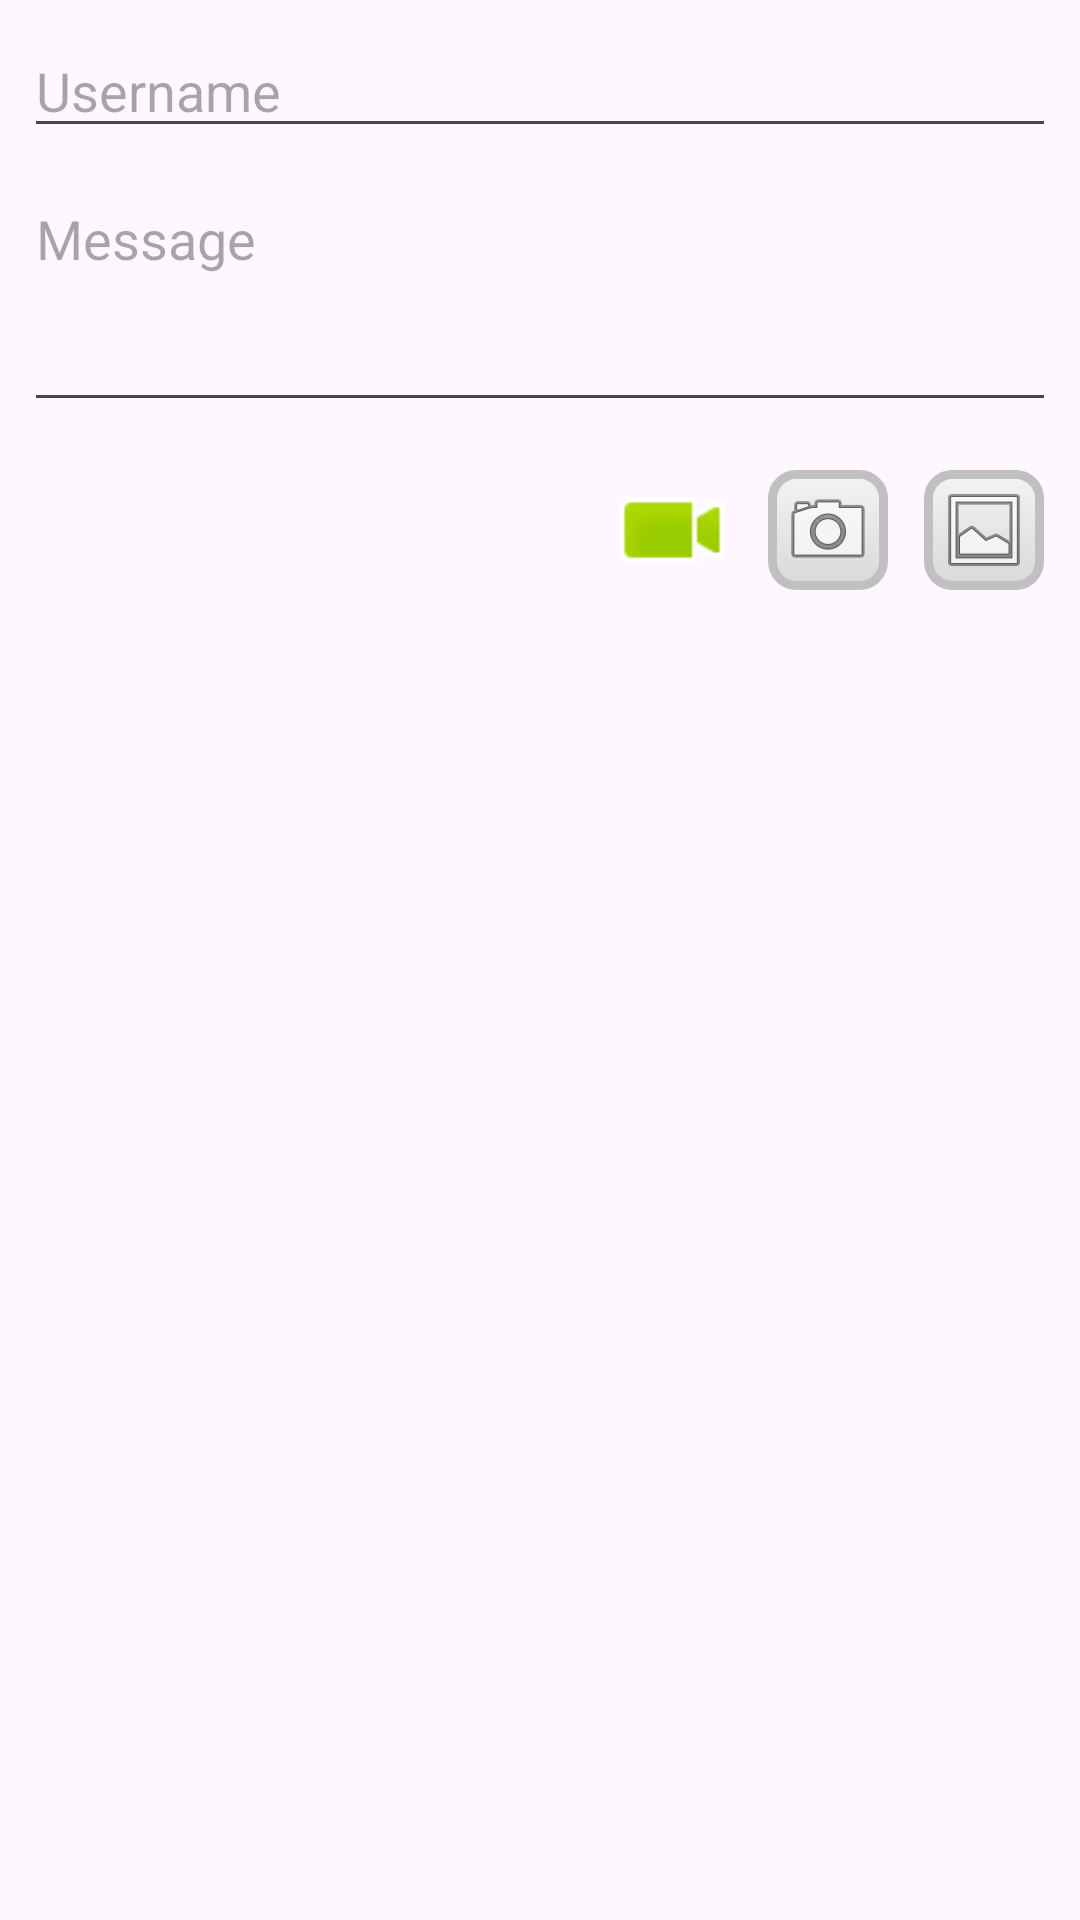

Where icons sit on this 1080w x 1920h app screen, as (x1, y1, x2, y2):
Album: (924, 470, 1044, 590)
Camera: (768, 470, 888, 590)
Video: (623, 501, 721, 559)
